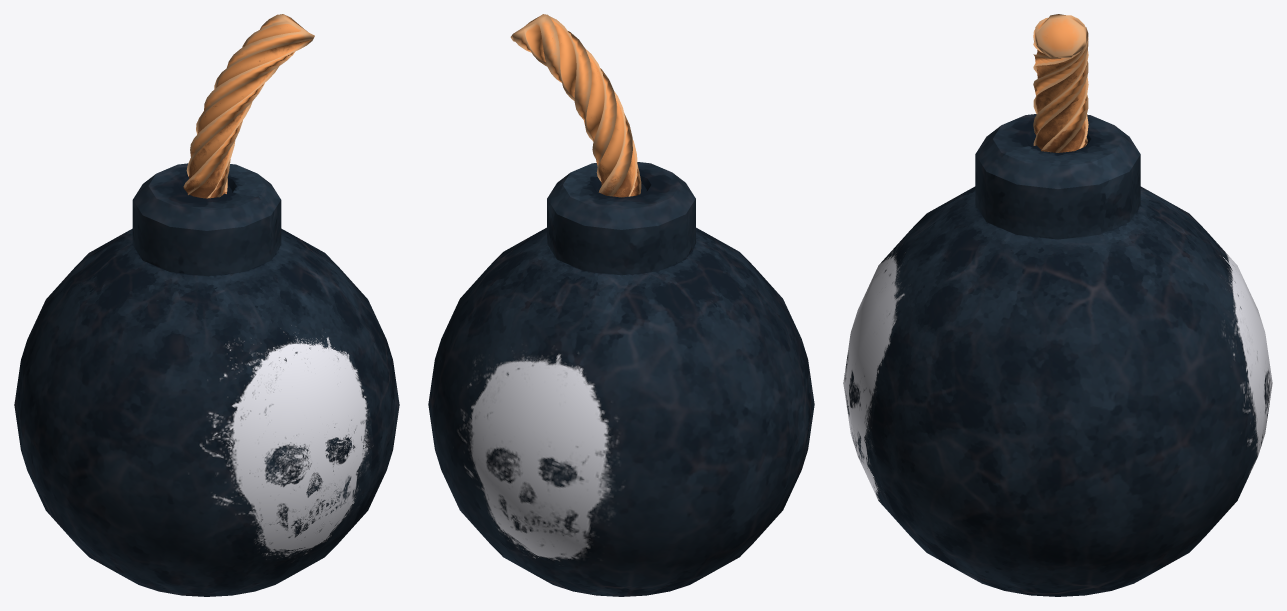
Rendered from stylized_bomb.glb.
The picture shows the model from 3 angles, left to right: view 1: azimuth 30°, elevation 25°; view 2: azimuth 150°, elevation 25°; view 3: azimuth 270°, elevation 25°; orthographic projection. The views are drawn at different scales.
Visible parts, largest first — view 1: Sphere.001, Cylinder.001, Circle.001; view 2: Sphere.001, Cylinder.001, Circle.001; view 3: Sphere.001, Cylinder.001, Circle.001.
Boxes of the visible parts, left/top/right/bottom form: Sphere.001: left=14, top=228, right=399, bottom=596; Cylinder.001: left=132, top=163, right=281, bottom=275; Circle.001: left=183, top=14, right=314, bottom=198; Sphere.001: left=428, top=227, right=814, bottom=596; Cylinder.001: left=547, top=162, right=695, bottom=275; Circle.001: left=510, top=14, right=641, bottom=197; Sphere.001: left=843, top=186, right=1272, bottom=596; Cylinder.001: left=975, top=114, right=1140, bottom=239; Circle.001: left=1033, top=14, right=1088, bottom=152.
Size of the model in its own units: 2 by 3.11 by 2.
Materials: 1 (1 with a texture image).
